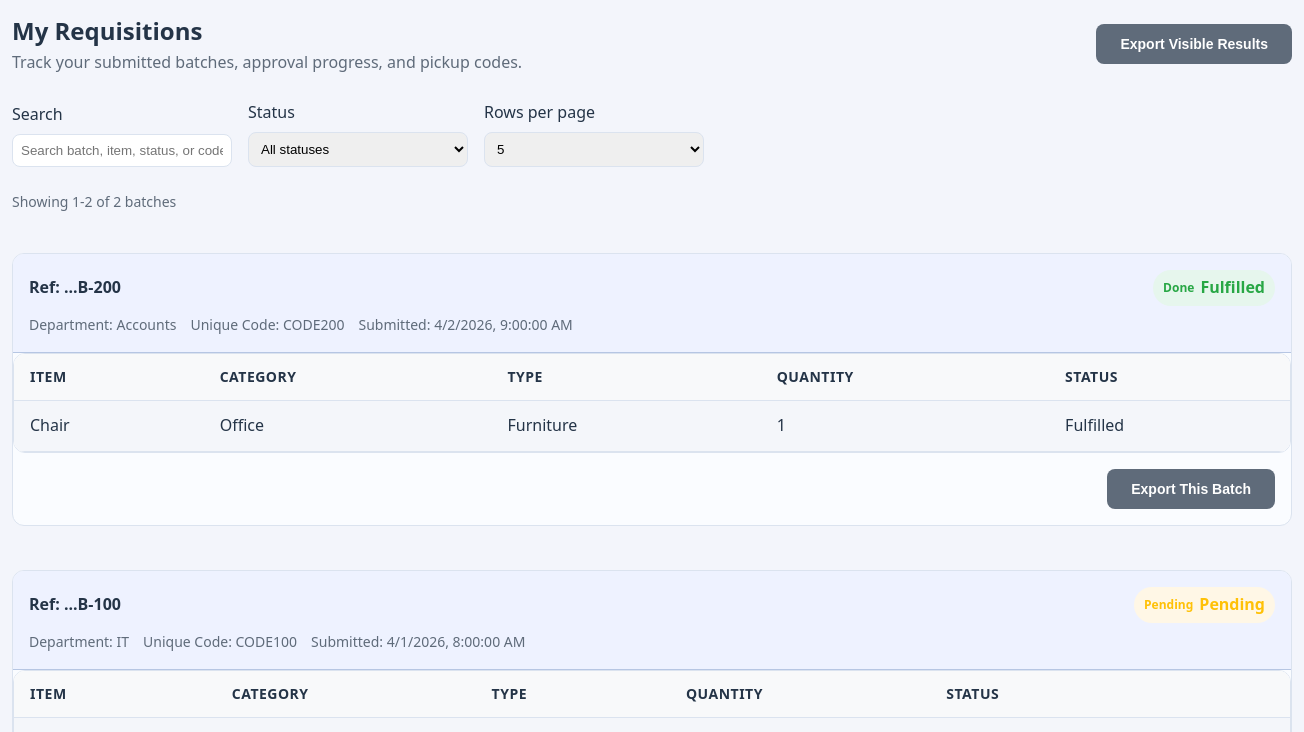
MyRequisitions › filters batches by search text and status
The image size is (1304, 732).
Expected: the text titled "B-200" is shown, [29,275,121,301]
Type "chair" into the field named "Search my requisitions" at x=122, y=150, box [12,134,232,167]
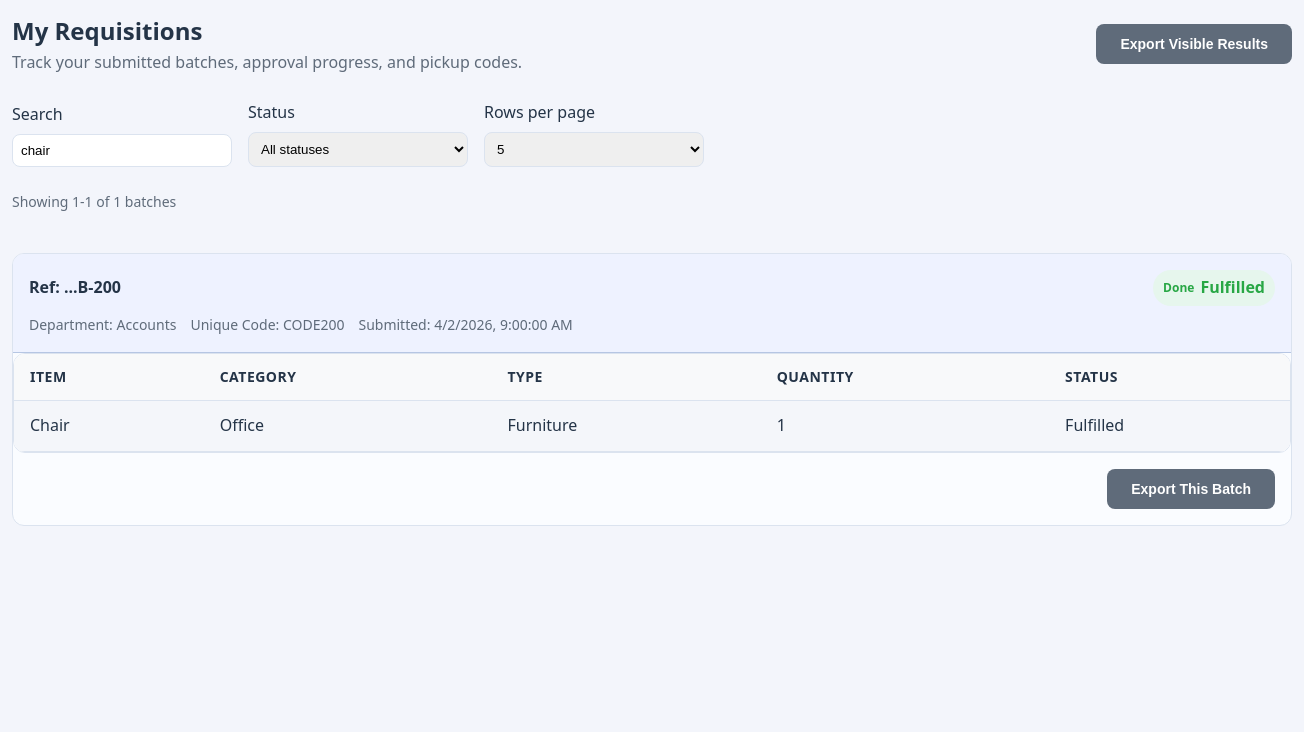
Expected: the text titled "B-200" is shown, [29,275,121,301]
Expected: the text titled "B-100" is gone
Clear the field named "Search my requisitions" at x=122, y=150, box [12,134,232,167]
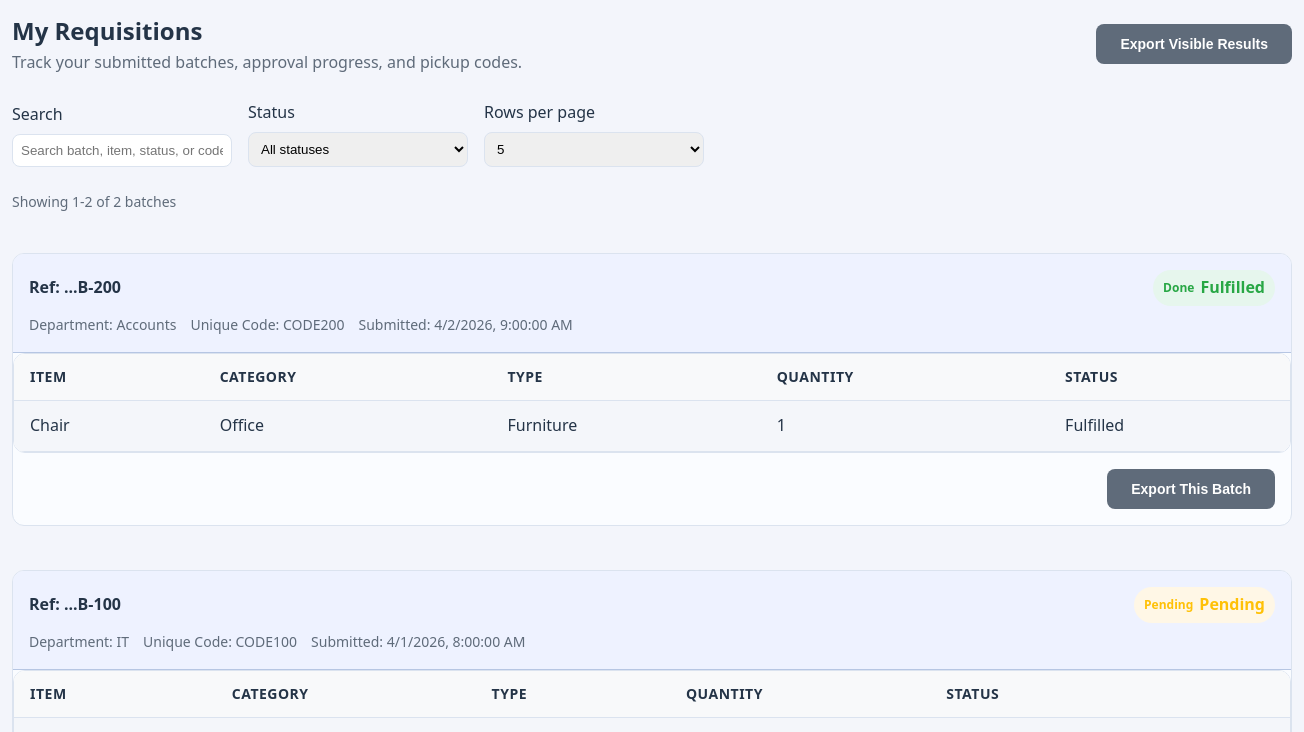
Select "Pending Review" in the dropdown named "Filter requisitions by status" at x=358, y=149, box [248,132,468,167]
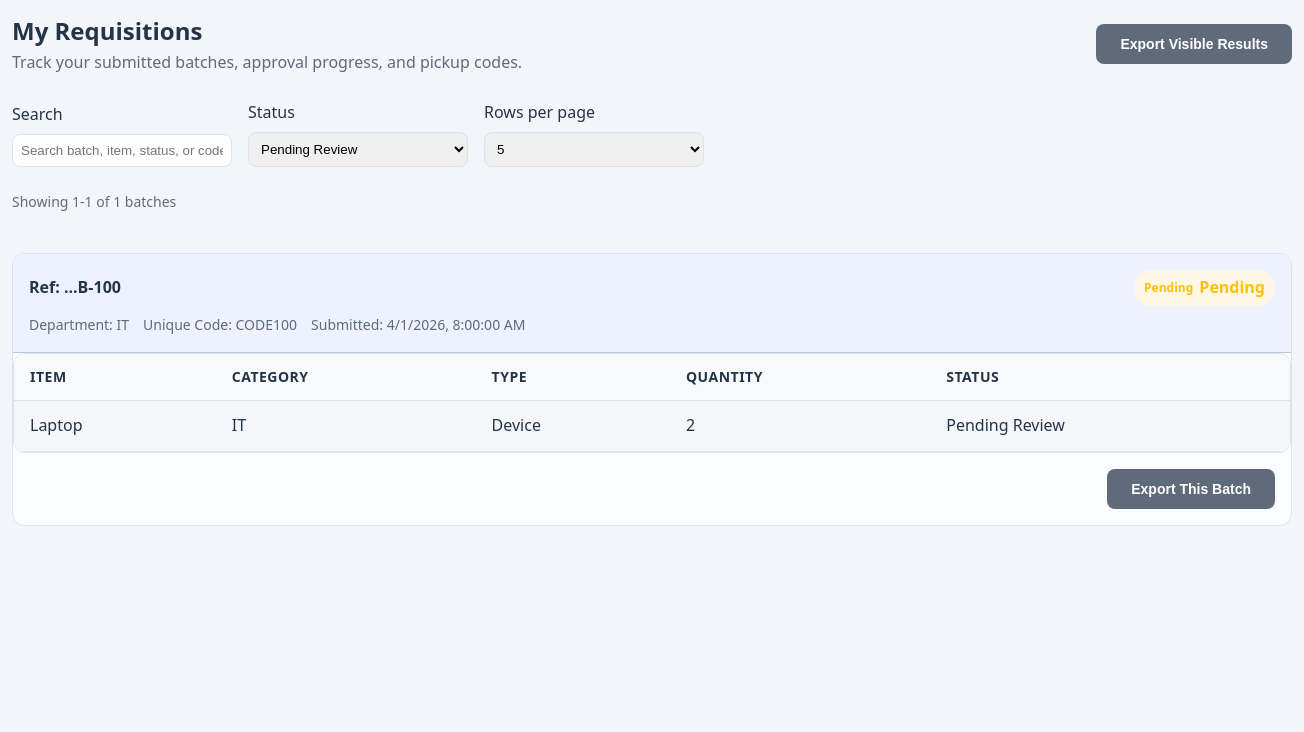
Expected: the text titled "B-100" is shown, [29,275,121,301]
Expected: the text titled "B-200" is gone
